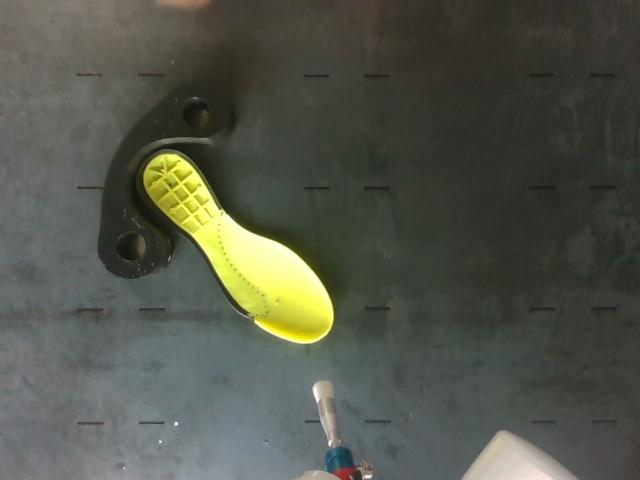shoes: (136, 149, 333, 343)
